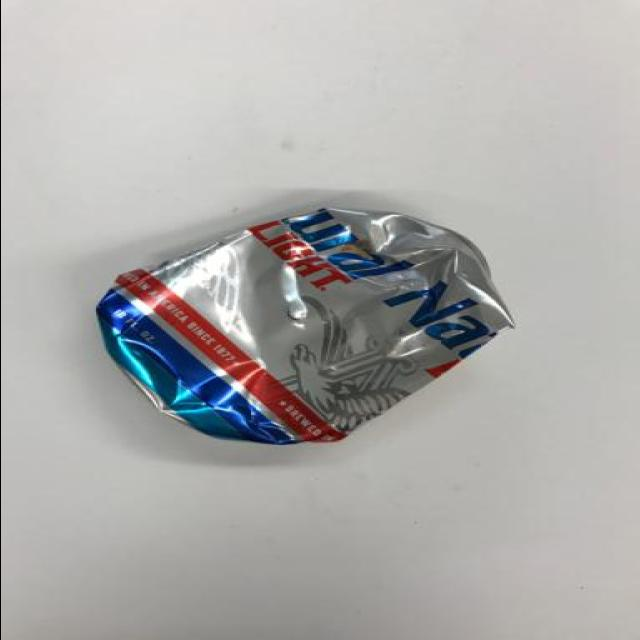Aluminum Can: (92, 196, 516, 446)
